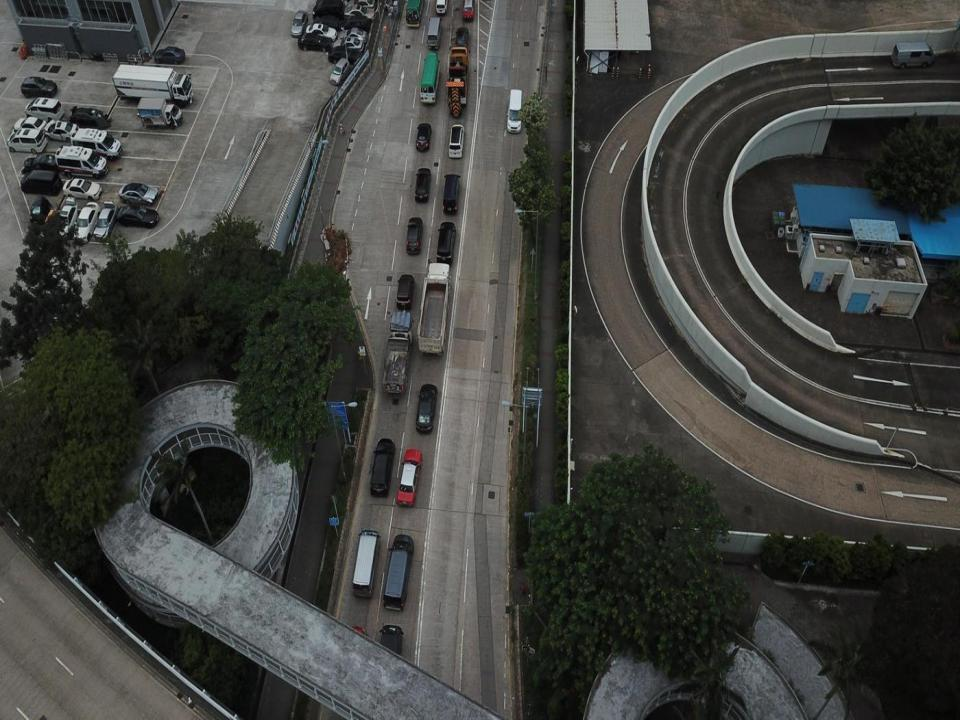bus: (419, 50, 440, 104)
car: (55, 144, 109, 178), (71, 127, 124, 161), (396, 447, 422, 507), (370, 439, 396, 497), (50, 199, 79, 241), (75, 201, 101, 247), (416, 384, 440, 432), (116, 206, 160, 230), (93, 200, 118, 242), (20, 170, 60, 195), (68, 105, 108, 130), (25, 96, 64, 121), (62, 178, 102, 202), (436, 221, 457, 266), (20, 75, 58, 99), (118, 182, 158, 204), (45, 117, 78, 142), (326, 35, 364, 56), (505, 88, 522, 133), (343, 4, 377, 26), (405, 215, 423, 256), (394, 274, 415, 309), (414, 166, 433, 204), (23, 152, 59, 172), (297, 33, 332, 53), (329, 58, 351, 86), (154, 46, 186, 65), (16, 117, 48, 136), (414, 121, 433, 152), (336, 25, 369, 42), (448, 123, 464, 158), (306, 21, 337, 39), (290, 9, 308, 37), (453, 26, 470, 48)
truck: (112, 61, 193, 108), (418, 262, 450, 358), (382, 310, 414, 395), (136, 93, 184, 130), (446, 45, 470, 116)
van: (381, 534, 415, 610), (350, 526, 380, 602), (891, 40, 936, 70), (441, 172, 461, 216), (426, 16, 443, 50)
